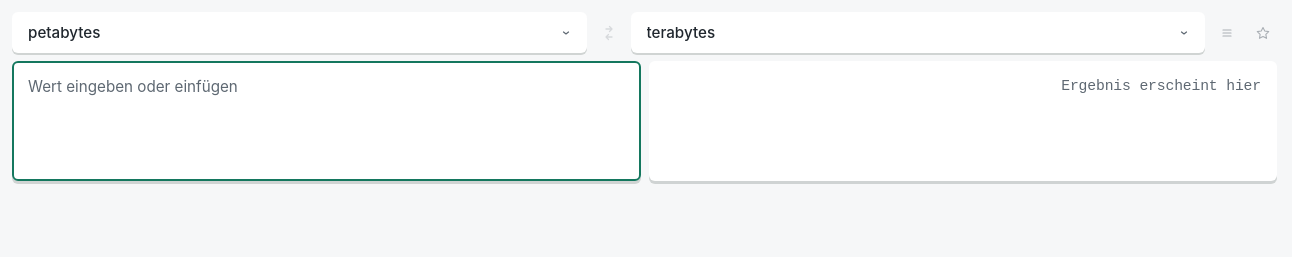
Scenario: never resolves unaudited pair petabytes to terabytes in batch=true
The image size is (1292, 257).
Click the button titled "Stapelmodus aktivieren" at (1227, 32), box [1213,18,1241,46]
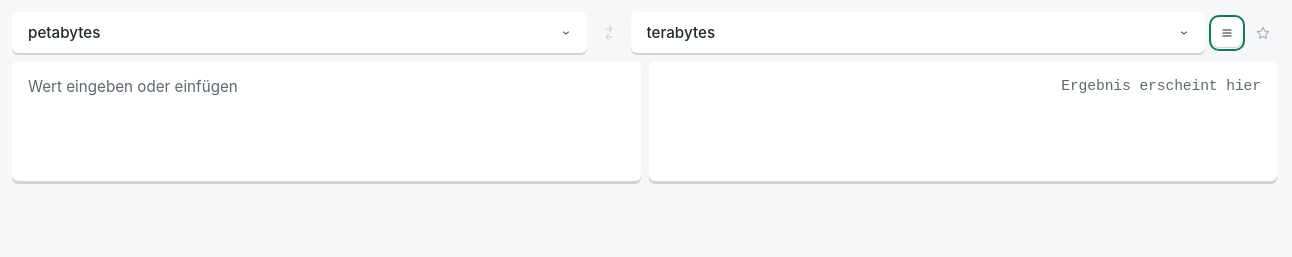
Type "private raw state" into the text box named "Eingabetext" at (326, 121), box [12,61,640,181]
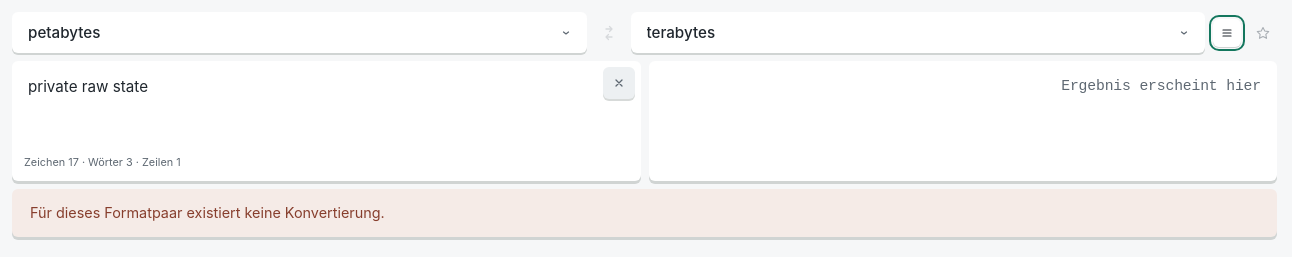
Check: the message does not show "private raw state", box [12,189,1277,237]
Check: the message reads "Für dieses Formatpaar existiert keine Konvertierung.", box [30,204,385,221]
